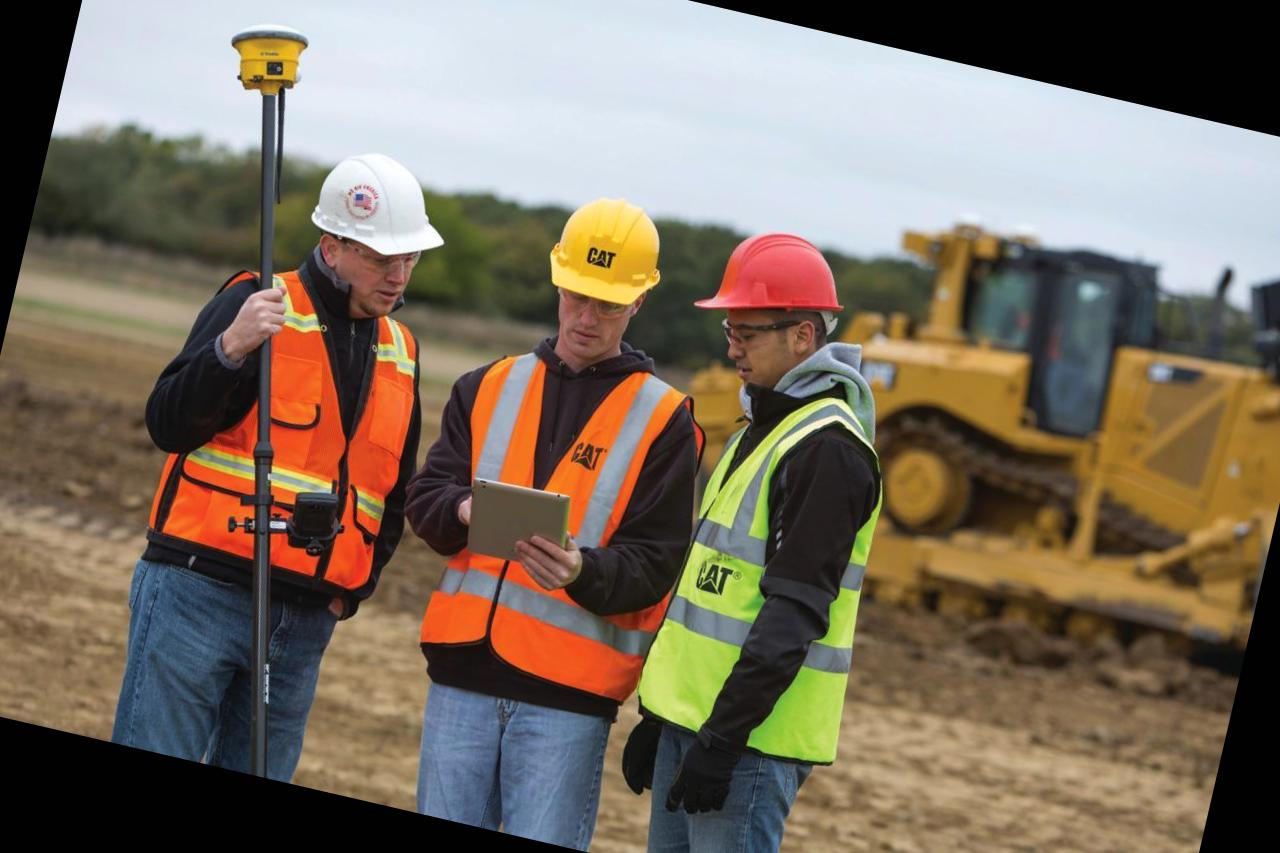helmet: (287, 134, 468, 292), (685, 217, 854, 350), (529, 188, 680, 320)
person: (347, 167, 757, 853), (92, 118, 487, 796), (564, 217, 960, 853)
